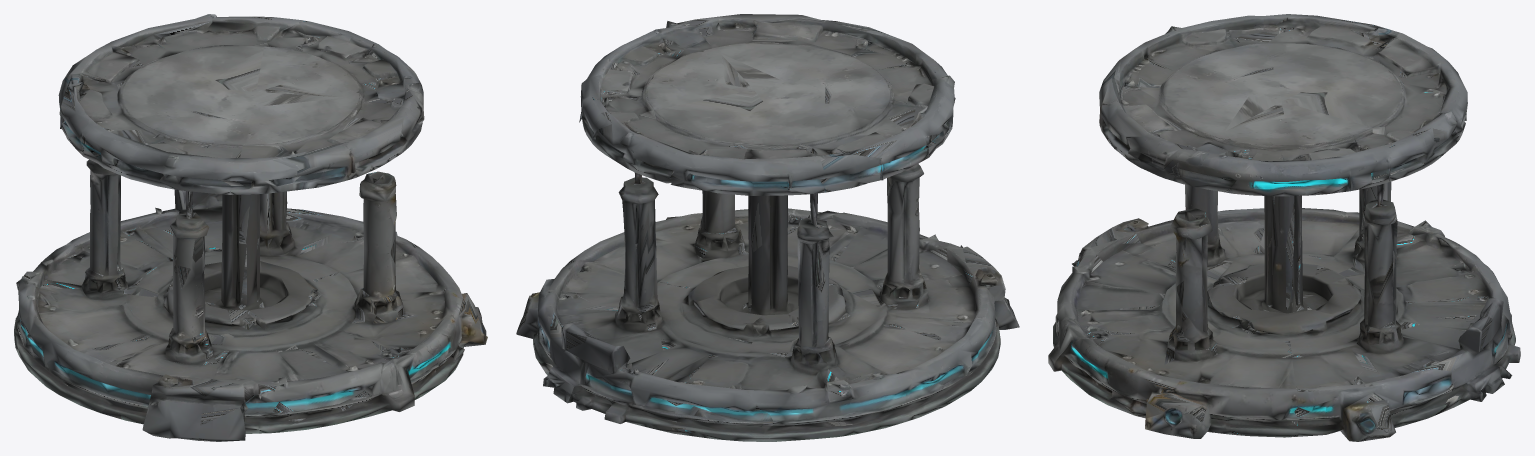
File: hydraulic_platform.glb
3 views of the same model, side by side, from view 1: azimuth 30°, elevation 25°; view 2: azimuth 150°, elevation 25°; view 3: azimuth 270°, elevation 25° (orthographic). The views are drawn at different scales.
Visible parts, largest first — view 1: tripo_node_4ff43898-3dc6-42d8-8469-35fe389520a9; view 2: tripo_node_4ff43898-3dc6-42d8-8469-35fe389520a9; view 3: tripo_node_4ff43898-3dc6-42d8-8469-35fe389520a9.
Part boxes in pixels (<box>): tripo_node_4ff43898-3dc6-42d8-8469-35fe389520a9: <box>14,14,487,441</box>; tripo_node_4ff43898-3dc6-42d8-8469-35fe389520a9: <box>516,14,1019,441</box>; tripo_node_4ff43898-3dc6-42d8-8469-35fe389520a9: <box>1048,14,1520,441</box>.
Size of the model in its own units: 0.9918 by 0.5949 by 0.9979.
Materials: 1 (1 with a texture image).
